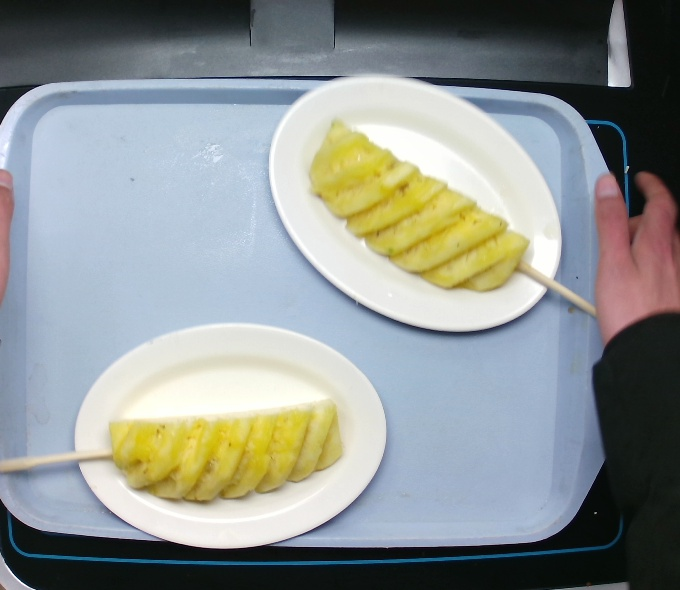wcq-BoLuo: (301, 110, 543, 307), (102, 360, 352, 524)
